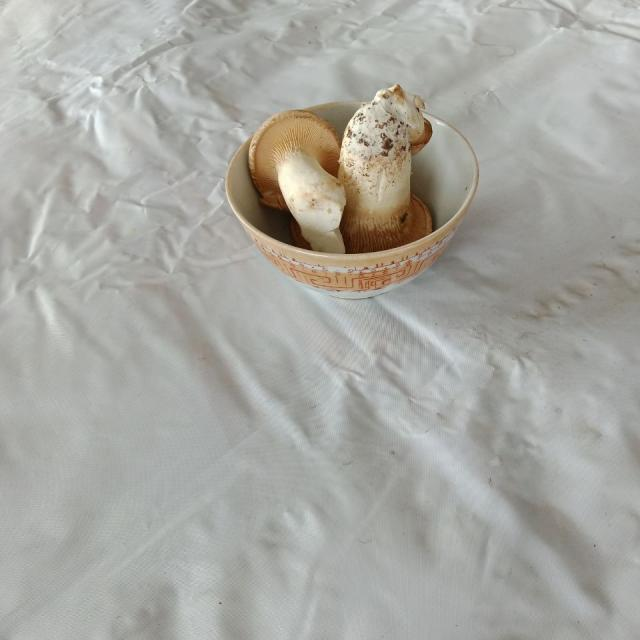Pleurotus cystidiosus: (338, 84, 435, 250), (249, 111, 347, 249)
